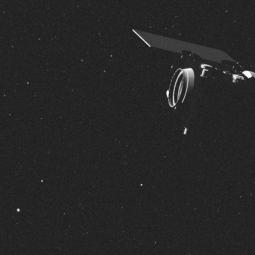proba_3_csc: (123, 24, 254, 137)
